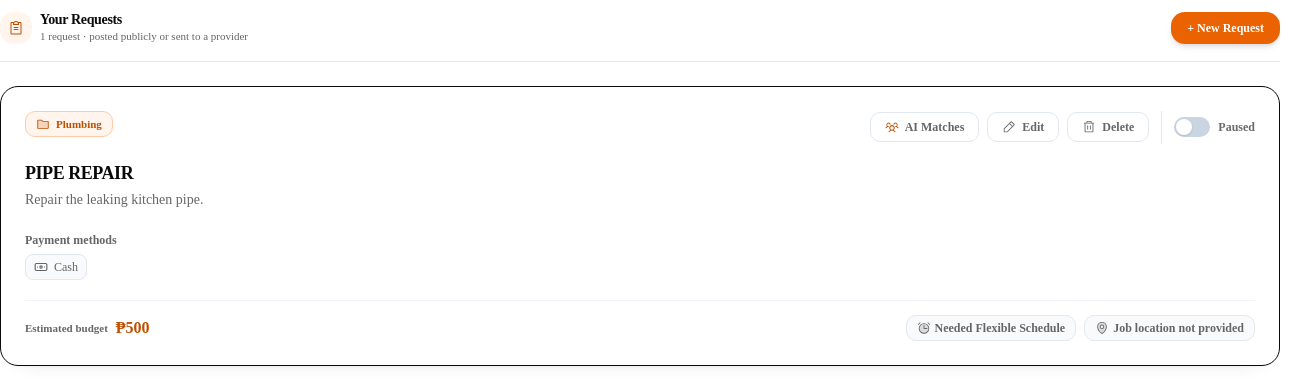
Test: My Requests activation › keeps both directions stable across repeated toggles
The image size is (1292, 385).
Click the switch: (1192, 127) left=1174, top=117, right=1210, bottom=137
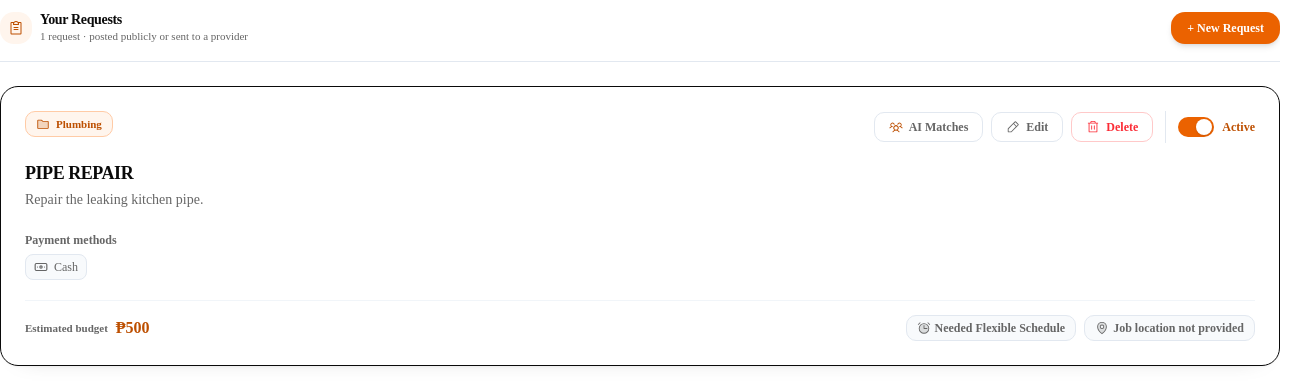
Check: the text "Active" is shown, box left=1222, top=119, right=1255, bottom=135
Click the switch: (1196, 127) left=1178, top=117, right=1214, bottom=137
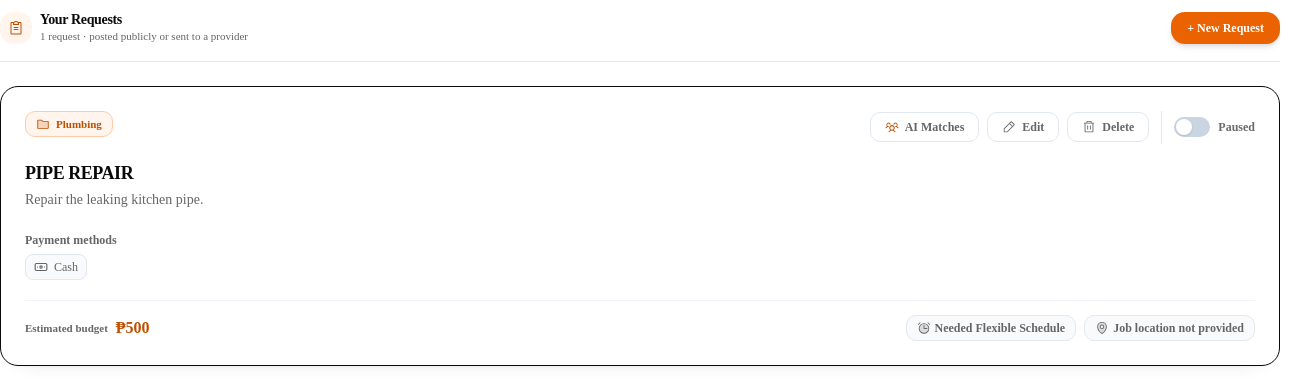
Check: the text "Paused" is shown, box left=1218, top=119, right=1255, bottom=135
Click the switch: (1192, 127) left=1174, top=117, right=1210, bottom=137
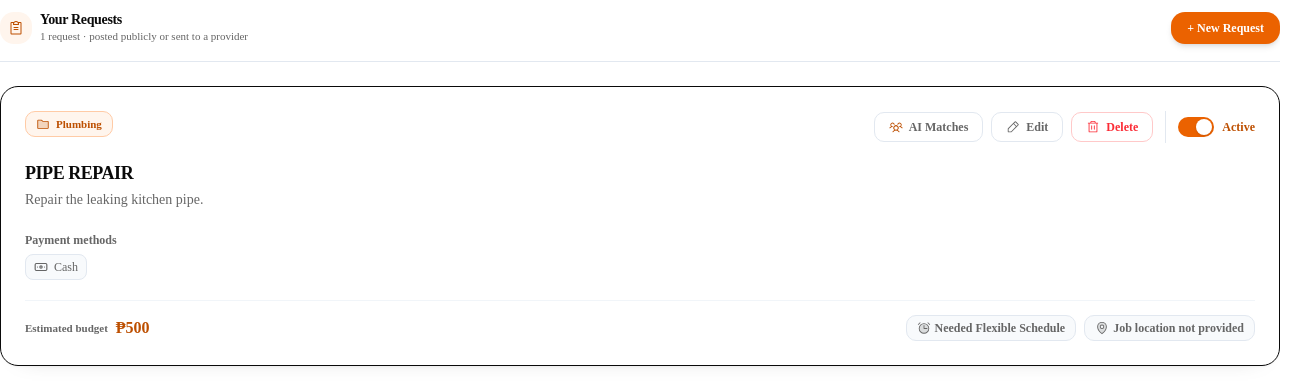
Check: the text "Active" is shown, box left=1222, top=119, right=1255, bottom=135
